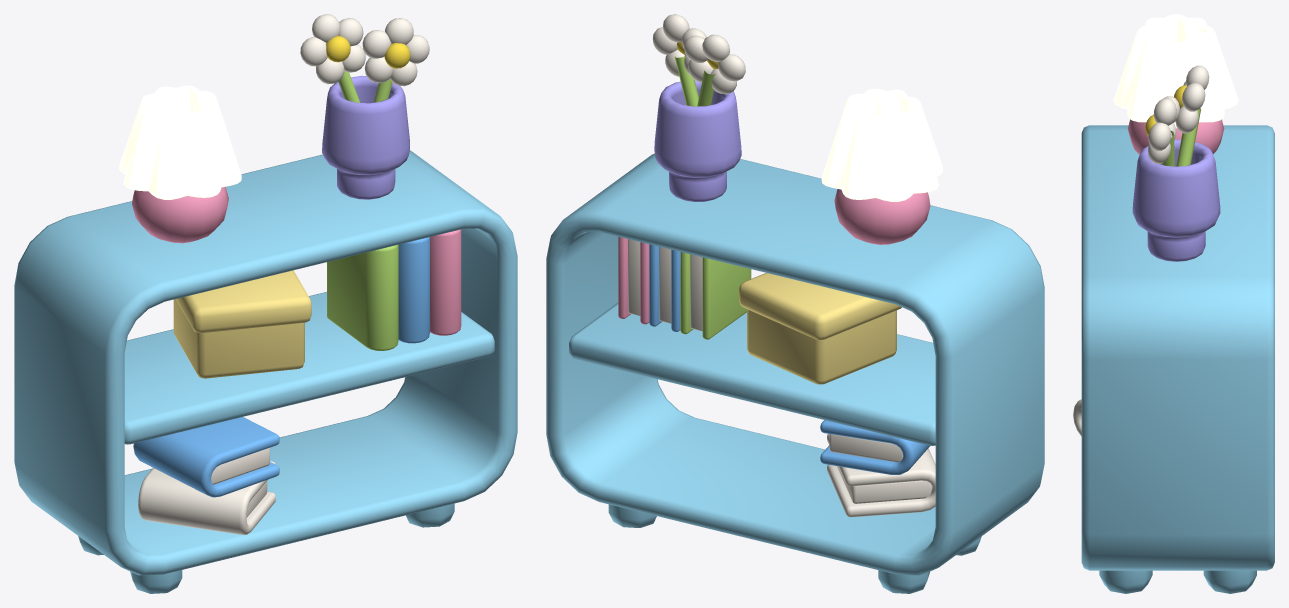
File: Shelf.fbx
3 renders of one model, left to right at view 1: azimuth 30°, elevation 25°; view 2: azimuth 150°, elevation 25°; view 3: azimuth 270°, elevation 25°, orthographic.
Visible parts, largest first — view 1: Shelf, Lamp, ShelfBox, Vase, ShelfBook04, ShelfBook01, ShelfBook05, Flower01, Flower02, ShelfBook02, ShelfBook03, ShelfLeg; view 2: Shelf, Lamp, ShelfBox, Vase, ShelfBook05, ShelfBook01, ShelfBook04, Flower01, ShelfBook02, ShelfBook03, Flower02, ShelfLeg; view 3: Shelf, Lamp, Vase, ShelfLeg, Flower01, Flower02.
Boxes of the visible parts, <box> form: Shelf: <box>14,150,517,575</box>; Lamp: <box>119,85,241,243</box>; ShelfBox: <box>173,270,311,378</box>; Vase: <box>322,75,409,199</box>; ShelfBook04: <box>133,417,279,497</box>; ShelfBook01: <box>327,244,398,350</box>; ShelfBook05: <box>138,461,275,535</box>; Flower01: <box>300,14,365,102</box>; Flower02: <box>362,18,429,102</box>; ShelfBook02: <box>398,237,429,343</box>; ShelfBook03: <box>430,229,461,335</box>; ShelfLeg: <box>78,503,454,593</box>; Shelf: <box>546,153,1044,575</box>; Lamp: <box>821,88,943,244</box>; ShelfBox: <box>739,273,901,384</box>; Vase: <box>654,80,741,201</box>; ShelfBook05: <box>827,434,935,517</box>; ShelfBook01: <box>680,252,751,339</box>; ShelfBook04: <box>820,420,929,474</box>; Flower01: <box>683,34,745,106</box>; ShelfBook02: <box>649,244,680,331</box>; ShelfBook03: <box>618,237,649,324</box>; Flower02: <box>652,14,706,106</box>; ShelfLeg: <box>608,504,981,593</box>; Shelf: <box>1081,125,1274,570</box>; Lamp: <box>1113,14,1238,154</box>; Vase: <box>1132,139,1220,261</box>; ShelfLeg: <box>1099,570,1256,593</box>; Flower01: <box>1174,65,1209,166</box>; Flower02: <box>1145,96,1179,166</box>.
Bounding box in the file's own units: 1.7 × 1.96 × 0.7305.
